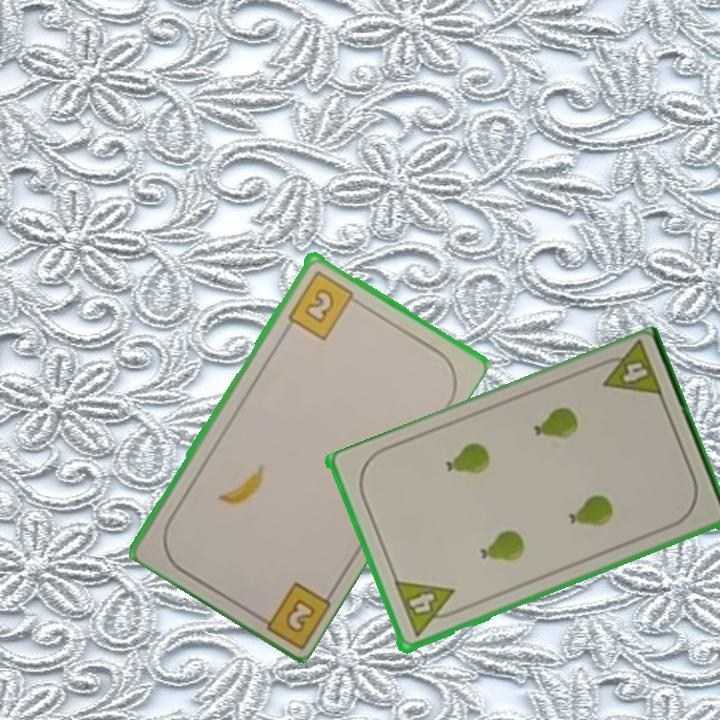2b: (249, 577, 333, 648), (284, 266, 362, 342)
4p: (591, 339, 666, 402), (391, 577, 463, 641)
